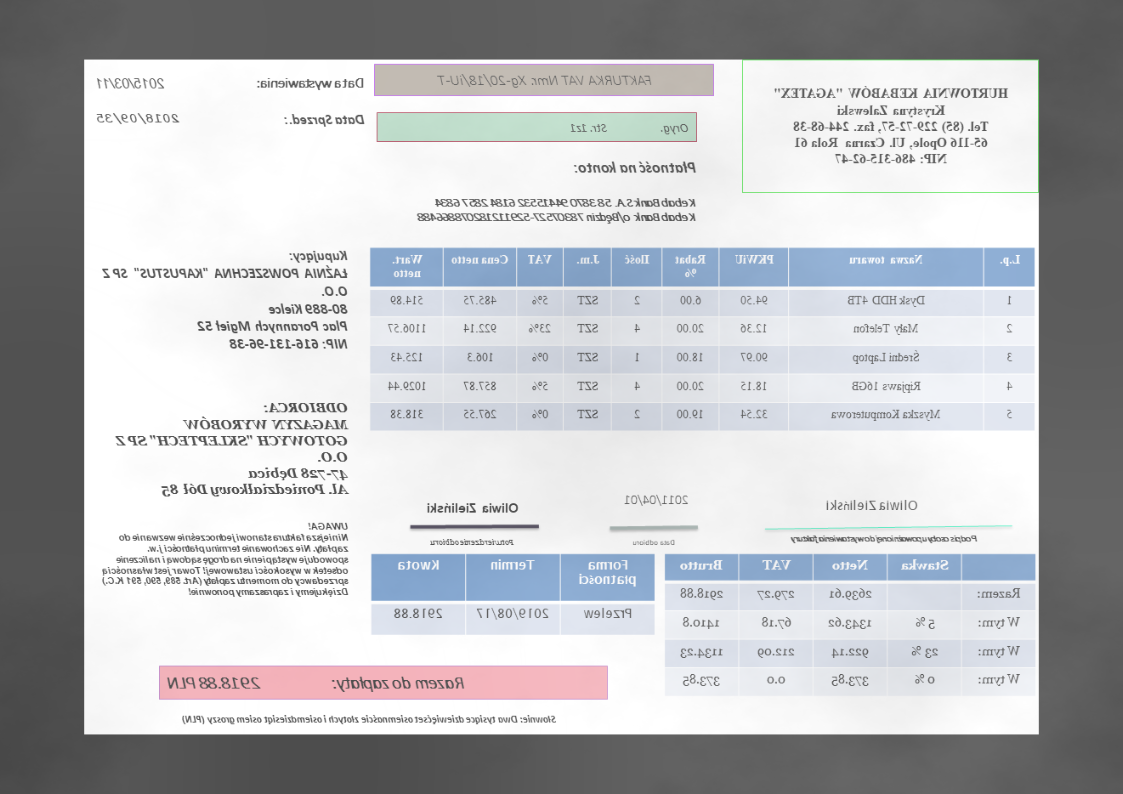Table: (368, 247, 1037, 432), (664, 553, 1037, 697), (371, 552, 656, 637)
TextBox: (100, 247, 351, 353), (113, 400, 351, 500), (771, 80, 1012, 170), (99, 518, 350, 598), (415, 194, 699, 224), (179, 709, 559, 728), (166, 672, 468, 693), (435, 71, 657, 88), (788, 531, 980, 547), (255, 73, 366, 94), (572, 159, 700, 177), (567, 119, 692, 136), (822, 496, 921, 513), (94, 110, 183, 128), (425, 500, 522, 515), (282, 111, 366, 128), (94, 75, 167, 91), (623, 492, 690, 508), (428, 536, 517, 547), (632, 537, 678, 547)
